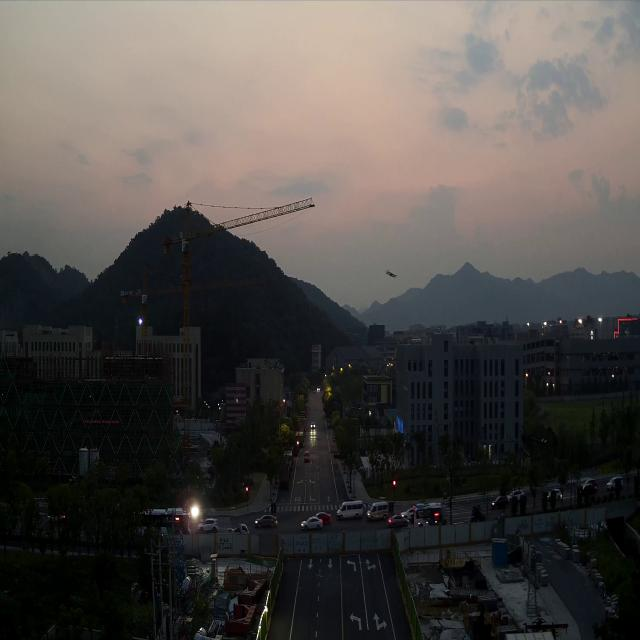UAV: (386, 270, 398, 278)
